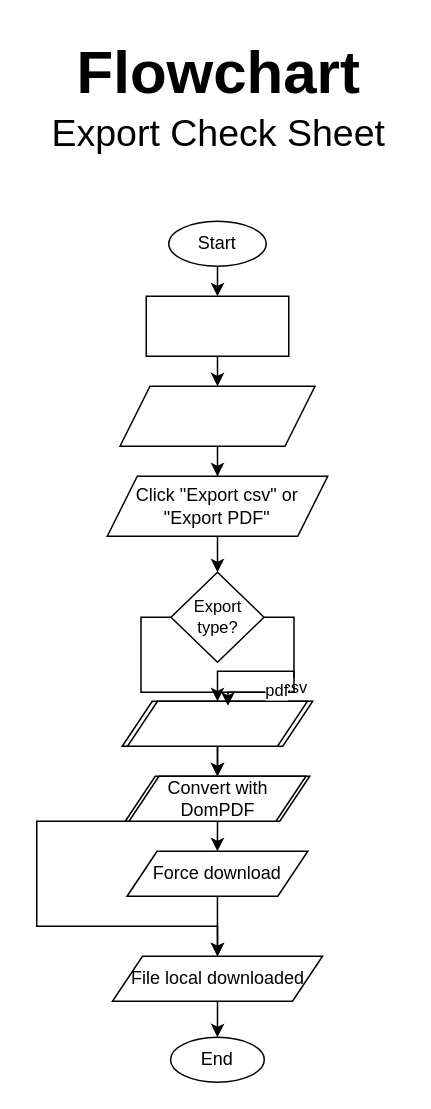
Image size: 431x1109. Some labels were removed from this diagram. The shapes that lost their labels are listed below. From the top down, each one's box as (x1, y1, x2, y2) in pixels, then its label:
(145, 295, 289, 356): Check sheet list page
(118, 385, 315, 446): Apply Date Filter (from/to)
(121, 700, 313, 746): Generate csv file
(126, 700, 308, 746): Generate HTML
